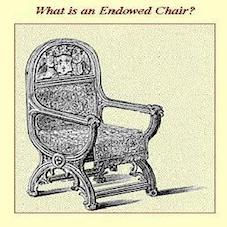chair: (3, 2, 181, 216)
